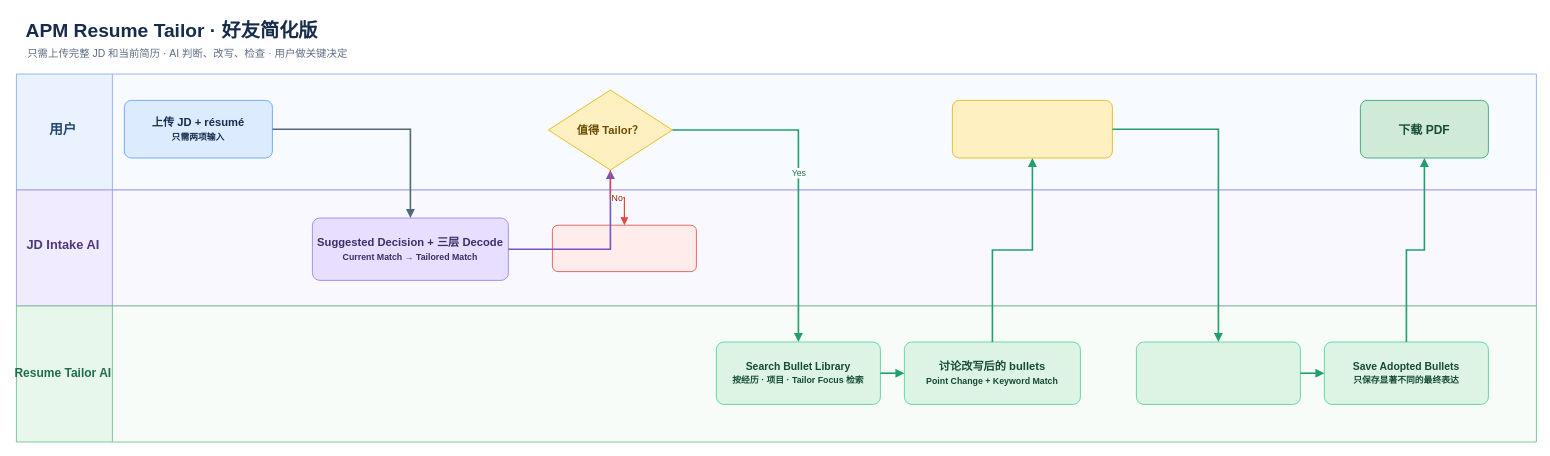
Some shapes in this 1550 by 456 pixel diagram are drawn without their labels. Each missing label, with the centre of its shape:
Internal QA ATS + Layout QA · 页数 · 顺序 · 链接 · 可复制文字: (1218,372)
Quick Apply / Skip / KILL: (624,248)
验收全部改动 human feedback / approve all: (1032,129)
